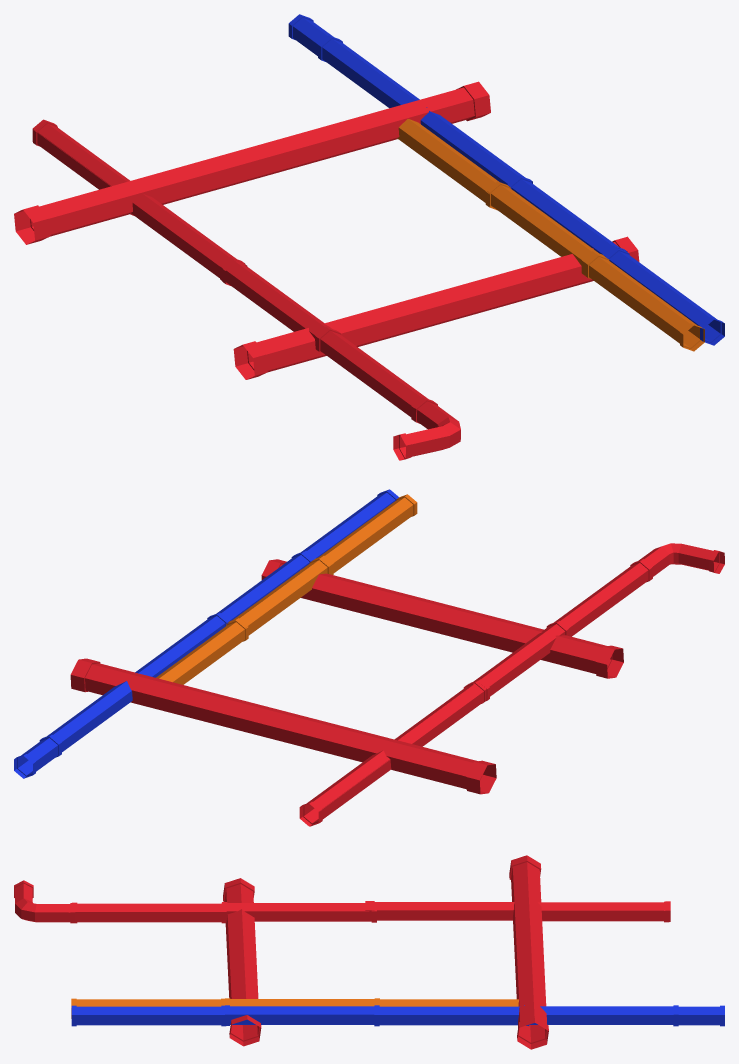
Rendered from asset.glb.
The picture shows the model from 3 angles, top to bottom: view 1: azimuth 30°, elevation 25°; view 2: azimuth 150°, elevation 25°; view 3: azimuth 270°, elevation 25°; orthographic projection. The views are drawn at different scales.
Visible parts, largest first — view 1: Plane.019, Plane.003, Plane.010, Plane.007, Plane.009, Plane.008, Plane.025, Plane.022, Plane.011, Plane.001, Plane.035, Plane.033 (+8 smaller); view 2: Plane.019, Plane.003, Plane.010, Plane.022, Plane.009, Plane.008, Plane.007, Plane.035, Plane.025, Plane.021, Plane.027, Plane.011 (+11 smaller); view 3: Plane.019, Plane.003, Plane.011, Plane.004, Plane.013, Plane.014, Plane.028, Plane.027, Plane.012, Plane.033, Plane.007, Plane.034 (+10 smaller).
Part boxes in pixels (x1,y1,x2,y2): Plane.019: (14, 81, 490, 244); Plane.003: (233, 236, 639, 379); Plane.010: (585, 253, 704, 351); Plane.007: (318, 329, 427, 421); Plane.009: (397, 119, 498, 209); Plane.008: (486, 181, 595, 275); Plane.025: (129, 194, 247, 285); Plane.022: (225, 257, 339, 349); Plane.011: (606, 248, 724, 345); Plane.001: (393, 398, 460, 460); Plane.035: (318, 36, 426, 107); Plane.033: (512, 180, 626, 256); Plane.019: (70, 658, 496, 794); Plane.003: (261, 559, 623, 678); Plane.010: (314, 494, 417, 574); Plane.022: (464, 621, 568, 703); Plane.009: (156, 620, 248, 684); Plane.008: (226, 557, 331, 635); Plane.007: (546, 560, 652, 636); Plane.035: (39, 673, 135, 755); Plane.025: (398, 679, 489, 746); Plane.021: (640, 543, 724, 578); Plane.027: (299, 750, 389, 826); Plane.011: (296, 489, 398, 559); Plane.019: (509, 855, 548, 1049); Plane.003: (223, 878, 261, 1046); Plane.011: (71, 1005, 226, 1026); Plane.004: (369, 901, 514, 920); Plane.013: (374, 1005, 529, 1026); Plane.014: (524, 1005, 678, 1024); Plane.028: (72, 902, 221, 922); Plane.027: (538, 901, 670, 921); Plane.012: (225, 1005, 379, 1025); Plane.033: (225, 1005, 373, 1025); Plane.007: (75, 903, 226, 923); Plane.034: (374, 1006, 528, 1026).
Bounding box in the file's own units: 8.12 × 0.9477 × 13.78.
